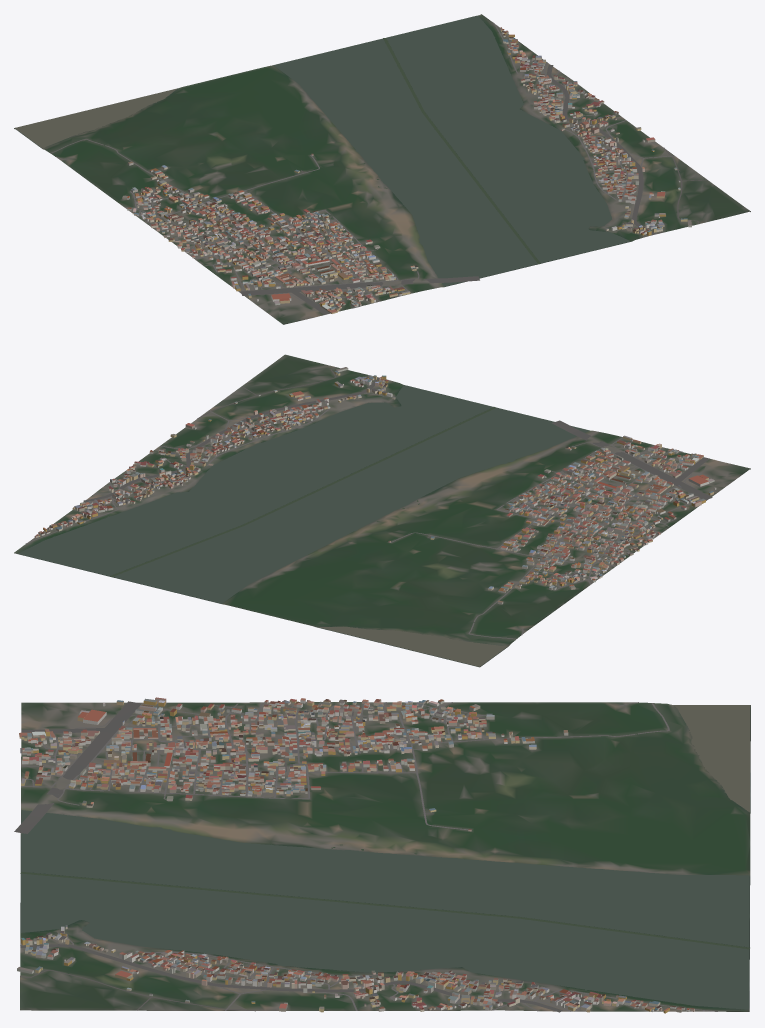
The picture shows the model from 3 angles, top to bottom: view 1: azimuth 30°, elevation 25°; view 2: azimuth 150°, elevation 25°; view 3: azimuth 270°, elevation 25°; orthographic projection. The views are drawn at different scales.
Visible parts, largest first — view 1: ground, water, buildings, roads; view 2: ground, water, buildings, roads; view 3: ground, water, buildings, roads.
Part boxes in pixels (x1,y1,x2,y2): ground: (14,14,750,324); water: (15,15,630,286); buildings: (122,27,691,313); roads: (50,22,707,314); ground: (14,354,750,667); water: (18,385,589,666); buildings: (34,367,716,604); roads: (25,367,712,639); ground: (20,702,750,1011); water: (20,705,750,1009); buildings: (17,697,694,1013); roads: (14,701,717,1012).
Bounding box in the file's own units: 1413 × 18.79 × 1416.
